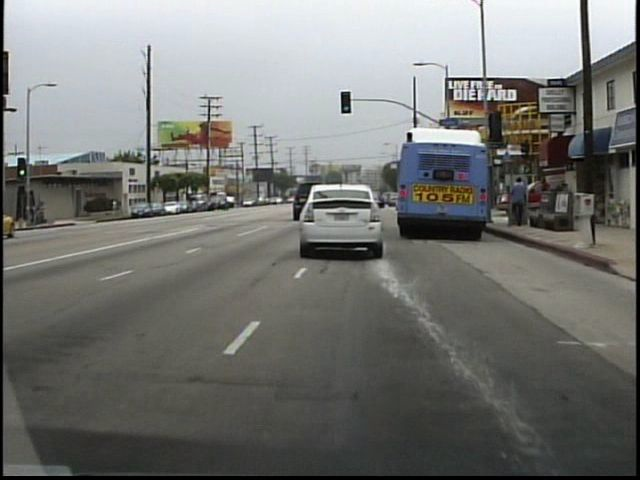person: (505, 174, 528, 231), (111, 196, 121, 218)
